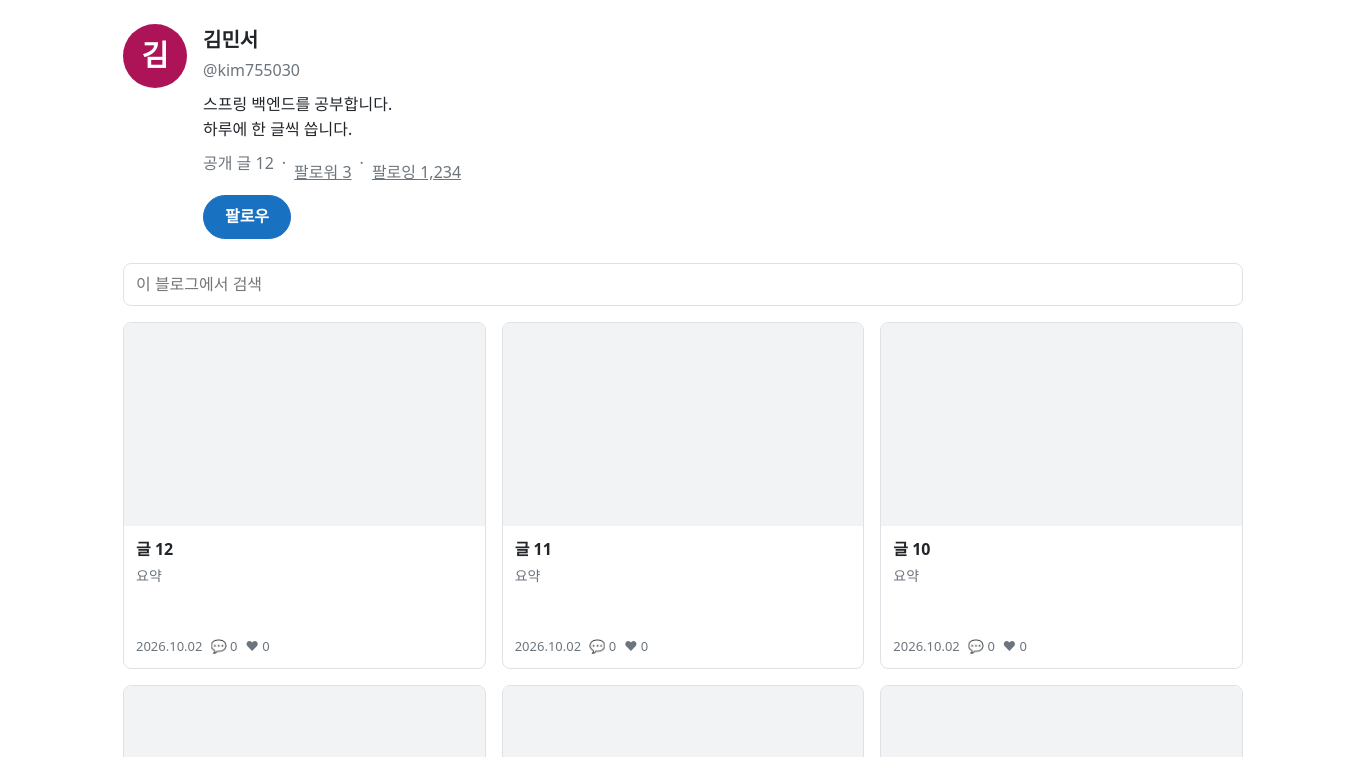
Scenario: BlogPage 태그 필터 › 이 블로그에서 검색 (012 T033) › 머리말 아래 "이 블로그에서 검색" 입력으로 ?q=를 두고 이 블로그 안 결과를 보인다
In the search field labelled "이 블로그에서 검색": (683, 285) [123,263,1243,306], type "스프링"
Then press Enter
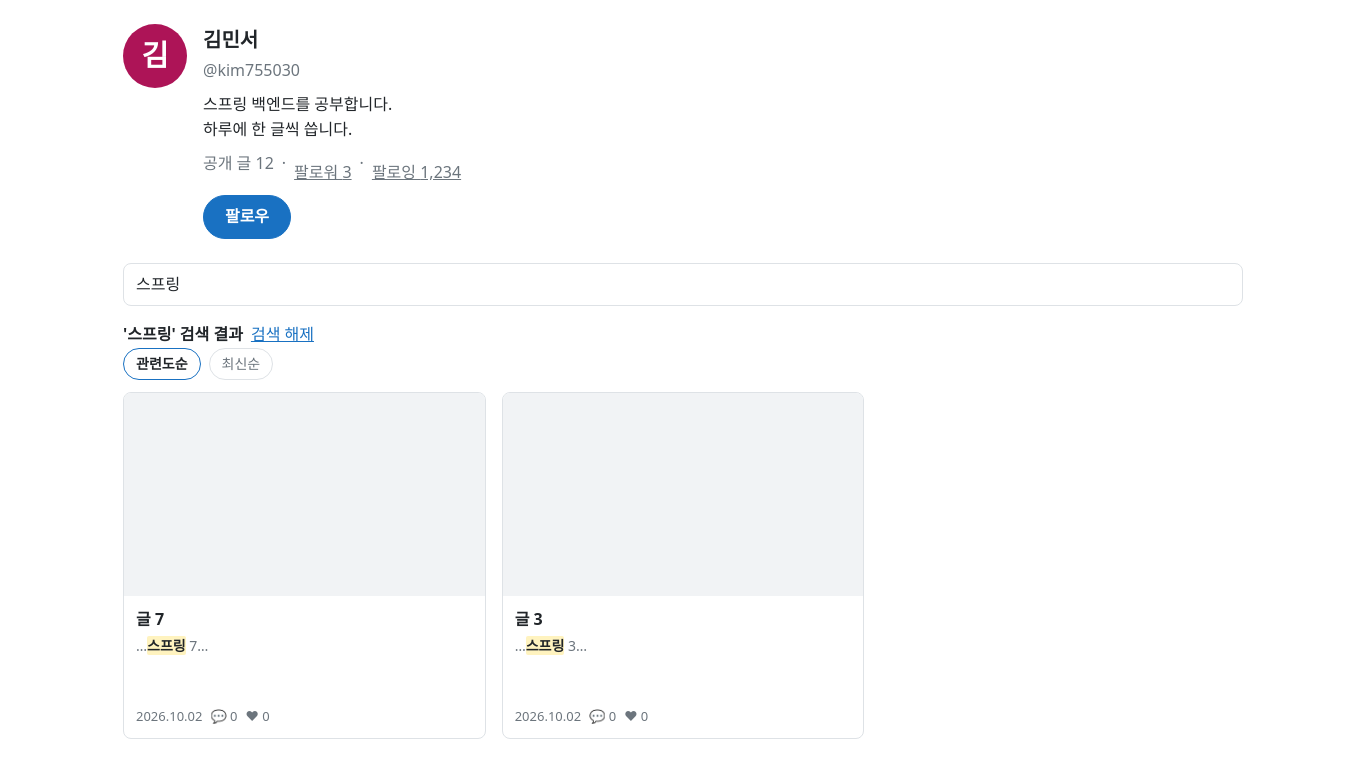
Expected: the number of elements with test id "post-card" is 2, [123,392,486,740]; [502,392,864,740]
Expected: the text "스프링" next to "7…" is shown, [147,636,186,655]
Expected: the text "'스프링' 검색 결과" is shown, [123,322,243,348]
